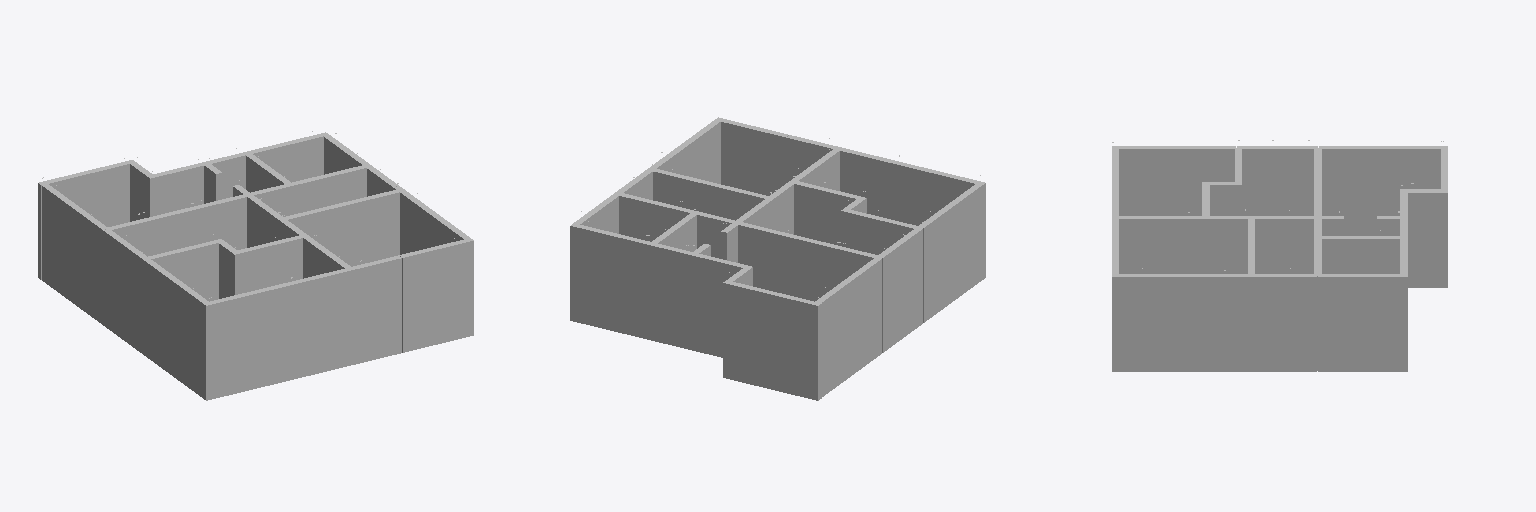
File: 2_wall_coordinates_inverted_3d.obj
3 views of the same model, side by side, from view 1: azimuth 30°, elevation 25°; view 2: azimuth 150°, elevation 25°; view 3: azimuth 270°, elevation 25° (orthographic).
Parts seen in each view (by area): view 1: Building_Outline_Merged, Internal_Wall_wall_junction_18_to_13_right, Internal_Wall_wall_junction_14_to_edge_left, Internal_window_window_3, Internal_window_window_2, Internal_Wall_wall_junction_11_to_19_left, Internal_Wall_wall_junction_3_to_53_right, Internal_Wall_wall_door_2_left_23_to_17, Internal_window_window_1, Fill_Above_window_1, Internal_Wall_wall_junction_10_to_17_down, Fill_Above_window_3 (+16 smaller); view 2: Building_Outline_Merged, Internal_window_window_1, Internal_Wall_wall_junction_18_to_13_right, Internal_Wall_wall_junction_11_to_19_left, Internal_Wall_wall_junction_14_to_edge_left, Internal_window_window_3, Internal_Wall_wall_door_2_left_23_to_17, Internal_Wall_wall_junction_3_to_53_right, External_window_window_4, Fill_Above_window_1, Fill_Below_window_1, Internal_Wall_wall_junction_57_to_58_right (+16 smaller); view 3: Building_Outline_Merged, Internal_Wall_wall_junction_10_to_17_down, Internal_Wall_wall_door_4_bottom_47_to_20, Internal_window_window_8, Internal_window_window_7, Internal_window_window_6, Internal_Wall_wall_door_5_top_41_to_11, Internal_Wall_wall_door_5_bottom_49_to_15, Internal_Wall_wall_junction_3_to_8_up, Fill_Above_door_1, Fill_Above_door_4, Fill_Above_door_5 (+3 smaller).
Part boxes in pixels (left/top/right/bottom): Building_Outline_Merged: left=38, top=132, right=473, bottom=400; Internal_Wall_wall_junction_18_to_13_right: left=282, top=189, right=402, bottom=266; Internal_Wall_wall_junction_14_to_edge_left: left=108, top=203, right=214, bottom=256; Internal_window_window_3: left=402, top=264, right=449, bottom=331; Internal_window_window_2: left=231, top=306, right=276, bottom=373; Internal_Wall_wall_junction_11_to_19_left: left=290, top=165, right=367, bottom=214; Internal_Wall_wall_junction_3_to_53_right: left=178, top=239, right=224, bottom=301; Internal_Wall_wall_door_2_left_23_to_17: left=265, top=235, right=304, bottom=286; Internal_window_window_1: left=67, top=183, right=122, bottom=226; Fill_Above_window_1: left=52, top=163, right=122, bottom=196; Internal_Wall_wall_junction_10_to_17_down: left=303, top=235, right=351, bottom=278; Fill_Above_window_3: left=399, top=244, right=449, bottom=274; Building_Outline_Merged: left=570, top=117, right=985, bottom=400; Internal_window_window_1: left=736, top=304, right=804, bottom=376; Internal_Wall_wall_junction_18_to_13_right: left=652, top=168, right=771, bottom=220; Internal_Wall_wall_junction_11_to_19_left: left=618, top=192, right=696, bottom=241; Internal_Wall_wall_junction_14_to_edge_left: left=771, top=231, right=878, bottom=301; Internal_window_window_3: left=739, top=144, right=785, bottom=195; Internal_Wall_wall_door_2_left_23_to_17: left=793, top=181, right=831, bottom=242; Internal_Wall_wall_junction_3_to_53_right: left=841, top=209, right=886, bottom=254; External_window_window_4: left=592, top=249, right=618, bottom=311; Fill_Above_window_1: left=736, top=283, right=806, bottom=319; Fill_Below_window_1: left=736, top=361, right=804, bottom=396; Internal_Wall_wall_junction_57_to_58_right: left=795, top=236, right=838, bottom=300; Building_Outline_Merged: left=1112, top=146, right=1447, bottom=371; Internal_Wall_wall_junction_10_to_17_down: left=1119, top=216, right=1205, bottom=273; Internal_Wall_wall_door_4_bottom_47_to_20: left=1283, top=216, right=1313, bottom=273; Internal_window_window_8: left=1261, top=295, right=1282, bottom=351; Internal_window_window_7: left=1247, top=167, right=1268, bottom=215; Internal_window_window_6: left=1285, top=167, right=1306, bottom=215; Internal_Wall_wall_door_5_top_41_to_11: left=1319, top=236, right=1348, bottom=273; Internal_Wall_wall_door_5_bottom_49_to_15: left=1373, top=236, right=1399, bottom=273; Internal_Wall_wall_junction_3_to_8_up: left=1206, top=182, right=1236, bottom=215; Fill_Above_door_1: left=1216, top=216, right=1243, bottom=246; Fill_Above_door_4: left=1258, top=216, right=1282, bottom=246; Fill_Above_door_5: left=1349, top=236, right=1372, bottom=267.
Bounding box in the file's own units: 8.87 × 3.2 × 9.63.